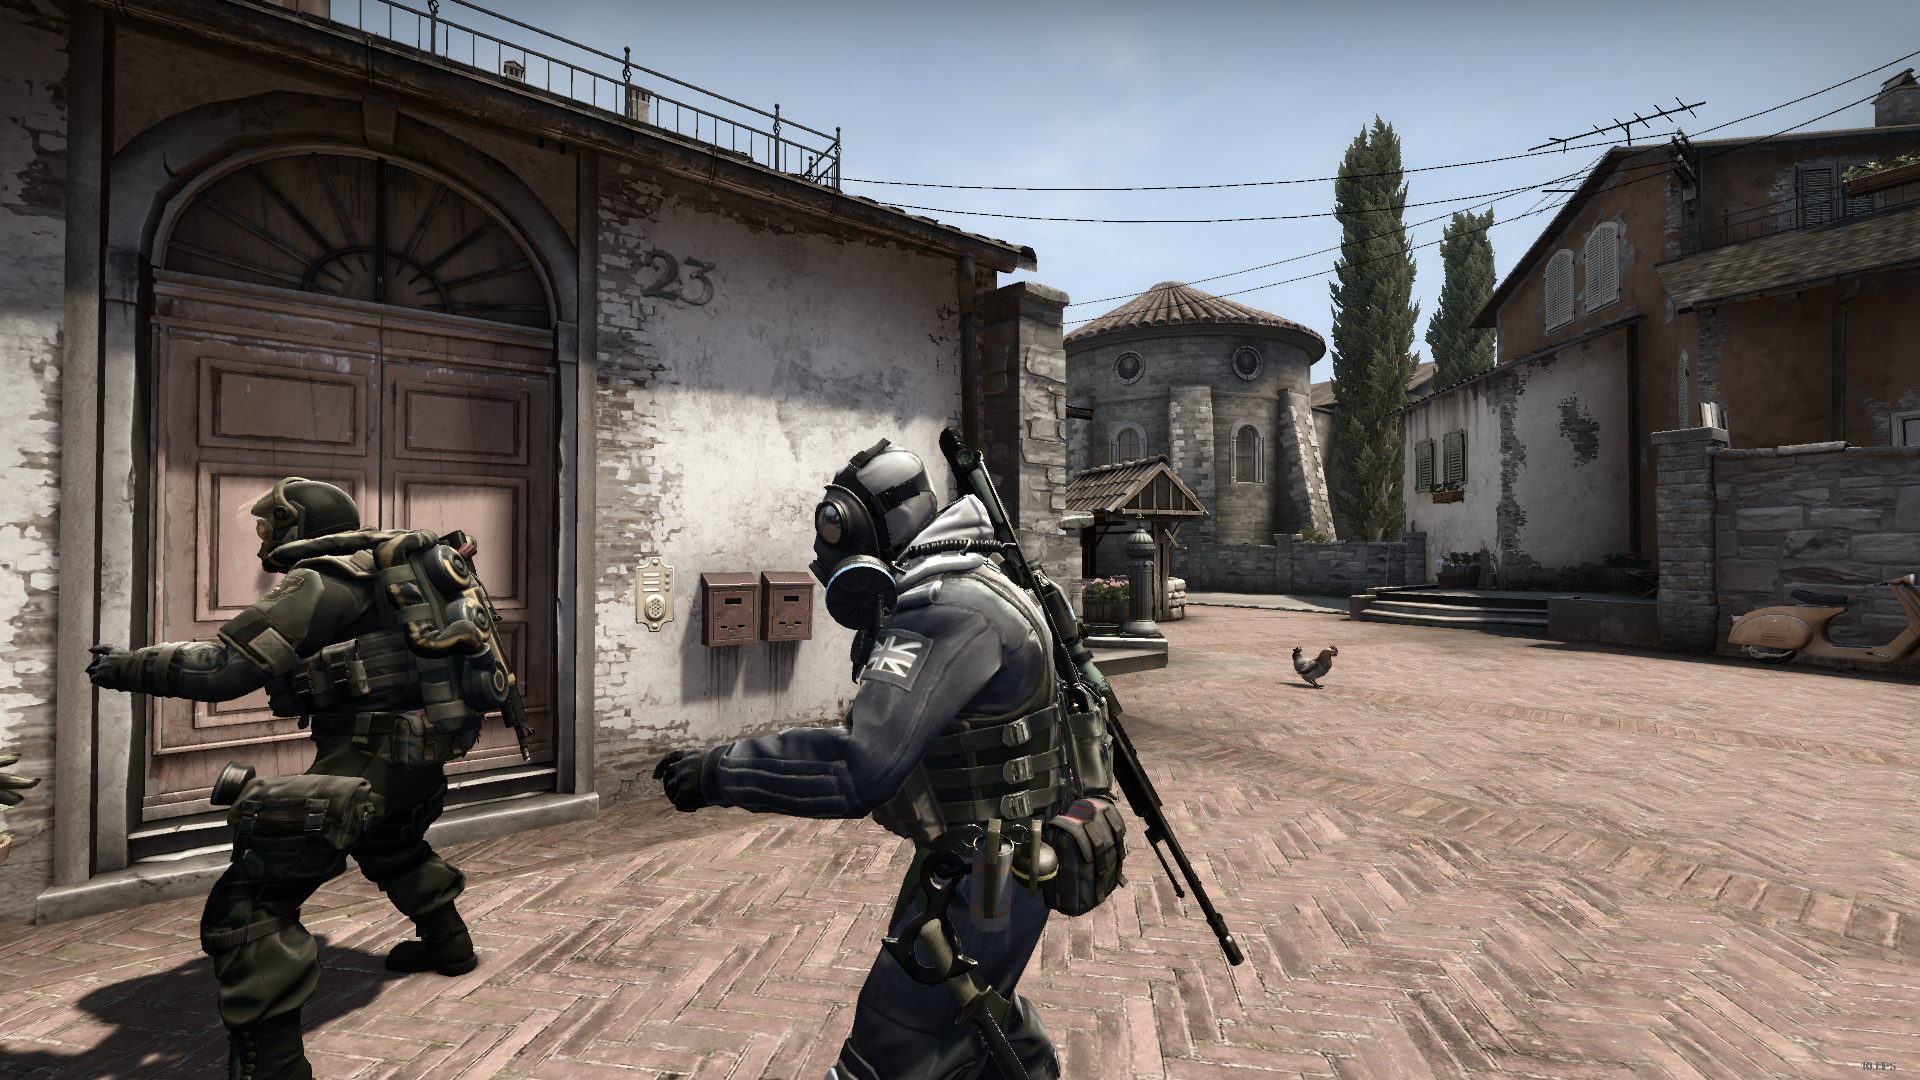ct: (654, 440, 1129, 1080)
